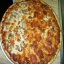pizza: (1, 1, 62, 64)
